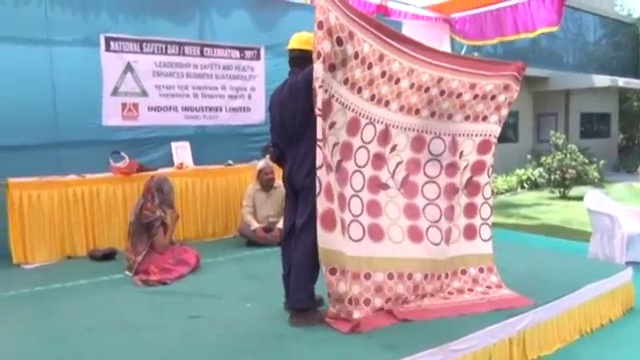helmet: (287, 30, 317, 51)
helmet_off: (144, 173, 175, 205), (257, 160, 276, 193)
helmet_on: (285, 28, 320, 74)
person: (268, 28, 330, 331), (123, 171, 199, 283), (238, 155, 286, 245)
